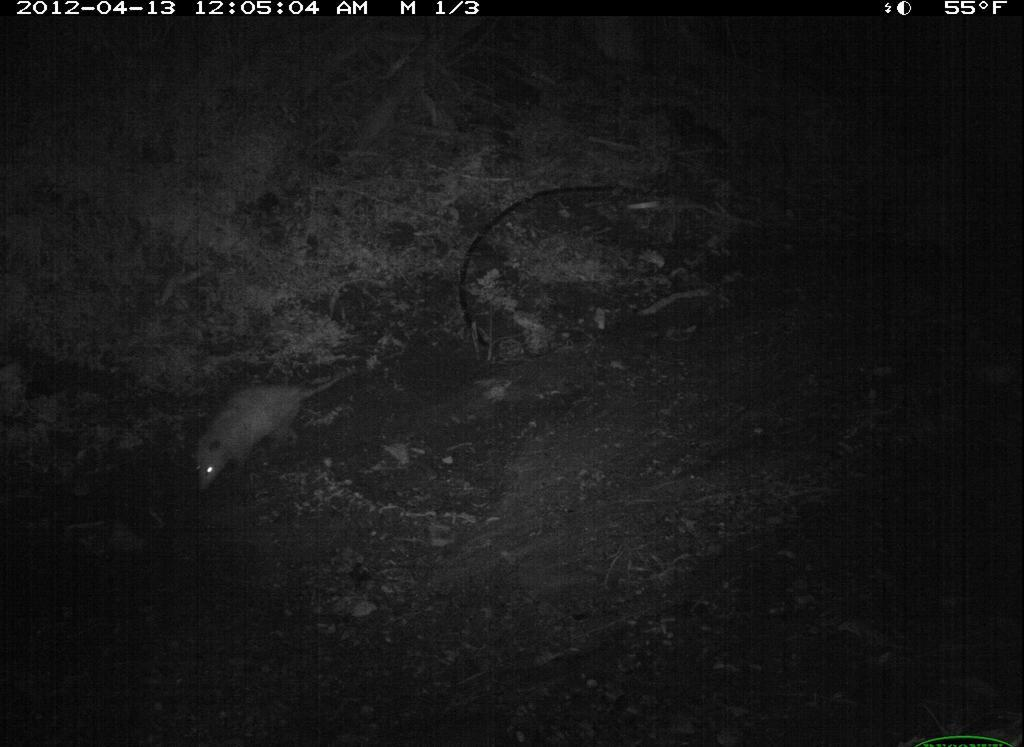opossum: (173, 349, 388, 500)
